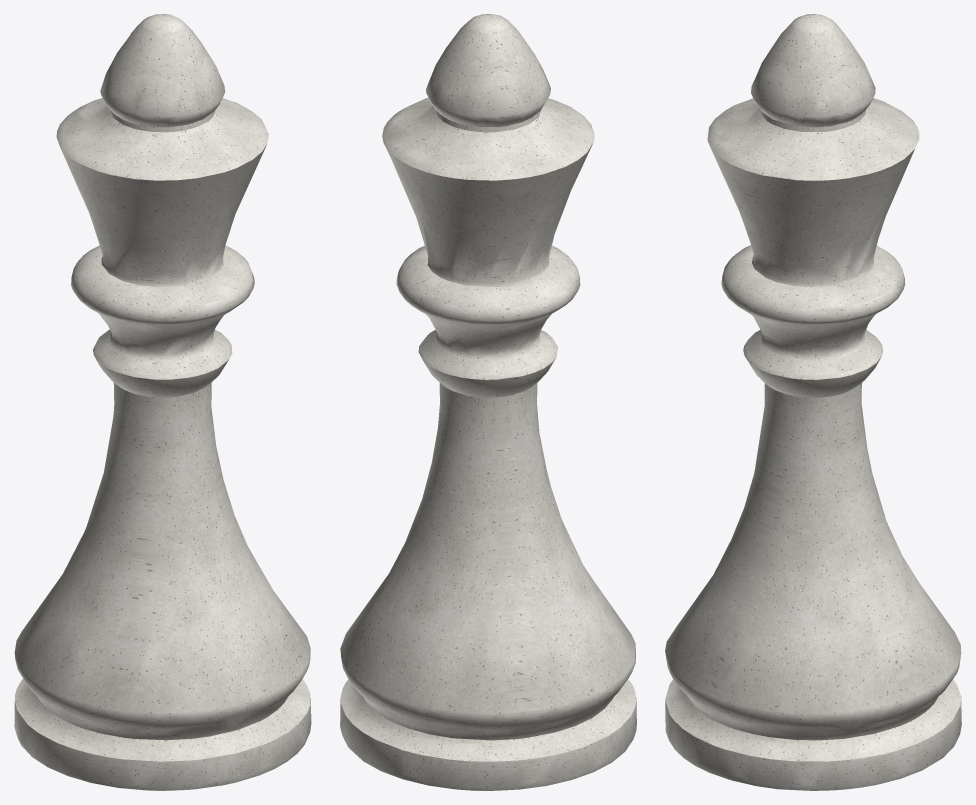
The model's file is kral_bila.glb.
3 views of the same model, side by side, from view 1: azimuth 30°, elevation 25°; view 2: azimuth 150°, elevation 25°; view 3: azimuth 270°, elevation 25° (orthographic).
Visible parts, largest first — view 1: kral_bila; view 2: kral_bila; view 3: kral_bila.
Part boxes in pixels (x1=…): kral_bila: x1=14, y1=14, x2=311, y2=790; kral_bila: x1=340, y1=14, x2=636, y2=790; kral_bila: x1=665, y1=14, x2=961, y2=790.
Bounding box in the file's own units: 0.0355 × 0.095 × 0.0354.
Materials: 1 (1 with a texture image).
